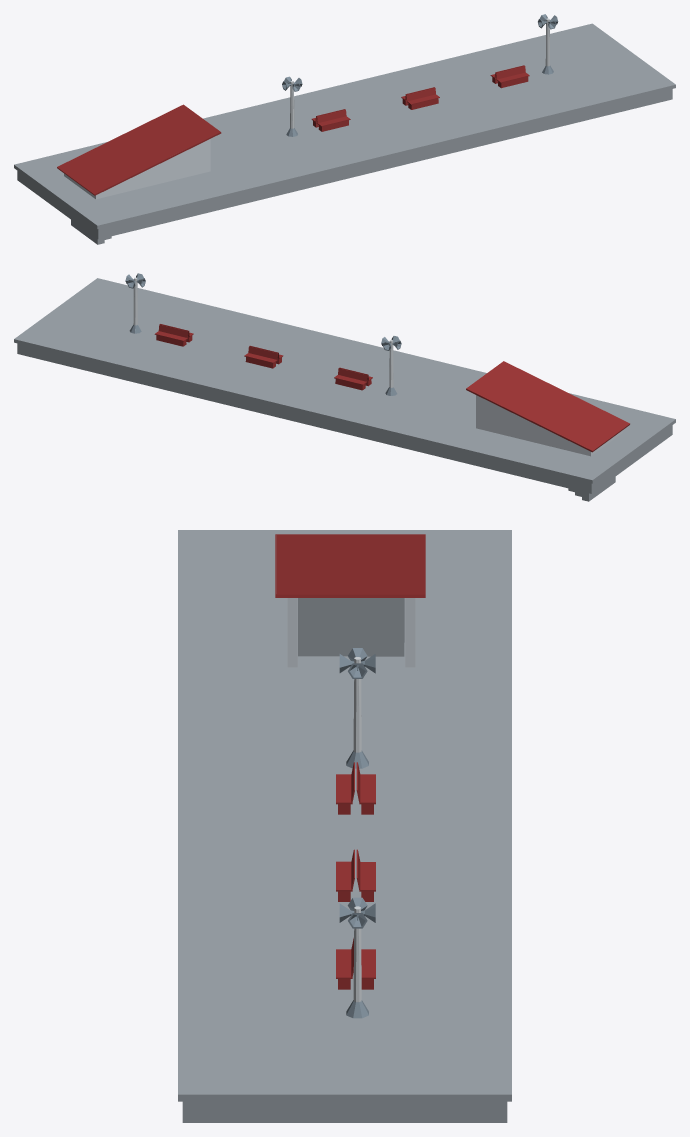
The model's file is PlatformRed.FBX.
3 renders of one model, top to bottom at view 1: azimuth 30°, elevation 25°; view 2: azimuth 150°, elevation 25°; view 3: azimuth 270°, elevation 25°, orthographic. The views are drawn at different scales.
Parts seen in each view (by area): view 1: Box001, Box011, Box019, Box025, Box026; view 2: Box001, Box011, Box019, Box026, Box025; view 3: Box001, Box011, Box019, Box026, Box025.
Boxes of the visible parts, x1,y1,x2,y2 form: Box001: (14,23,675,244); Box011: (57,104,221,199); Box019: (311,65,529,131); Box025: (282,76,302,136); Box026: (538,14,558,74); Box001: (14,278,675,501); Box011: (466,361,629,456); Box019: (154,324,372,390); Box026: (125,273,145,333); Box025: (381,336,401,395); Box001: (178,530,511,1122); Box011: (275,534,425,667); Box019: (336,762,375,989); Box026: (339,897,375,1018); Box025: (339,648,375,768).
Bounding box in the file's own units: 40 × 6.78 × 10.
